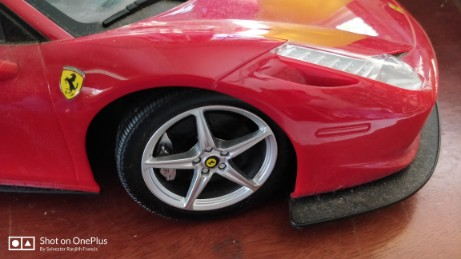unaligned_wheel: (99, 91, 294, 222)
